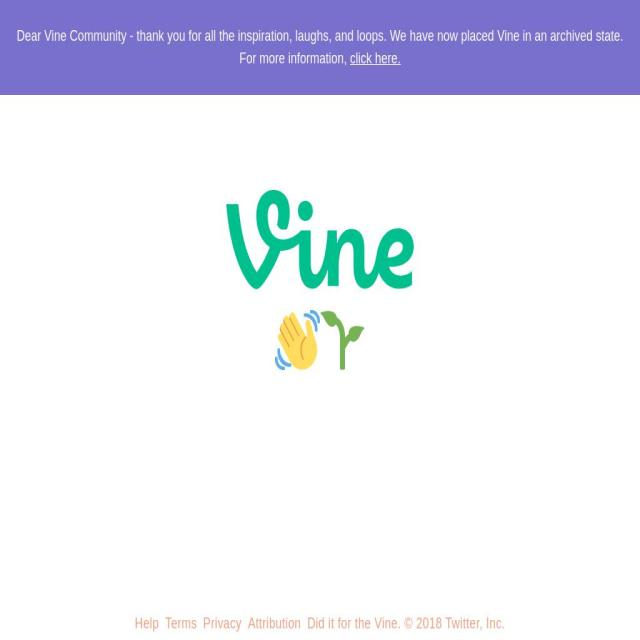image: (226, 189, 414, 289), (275, 309, 320, 370), (320, 309, 365, 370)
link: (248, 615, 302, 632), (350, 50, 401, 67), (203, 615, 243, 632), (165, 615, 197, 632), (134, 615, 159, 632)
text: (16, 28, 623, 66), (306, 606, 505, 640)
